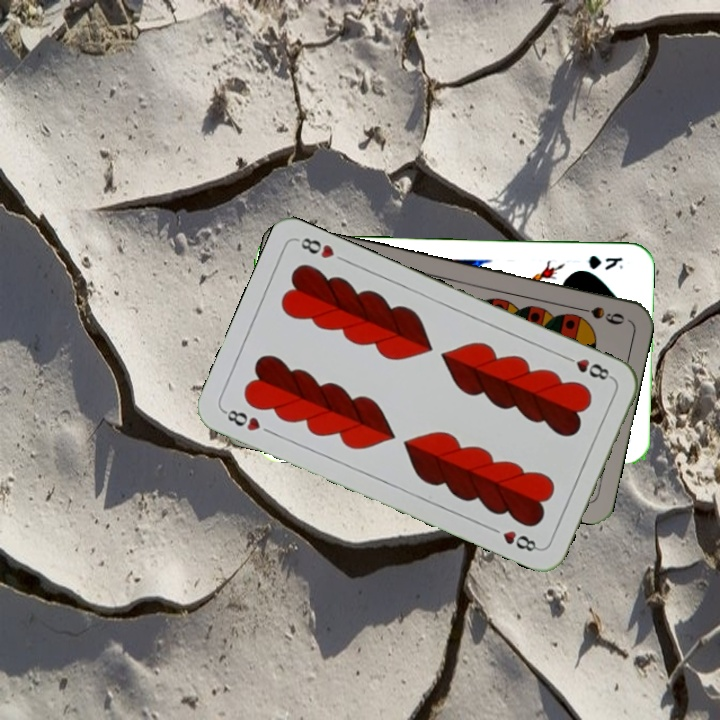GK: (585, 252, 626, 273)
H8: (559, 351, 615, 383), (219, 405, 263, 434)
S9: (570, 302, 627, 328)
